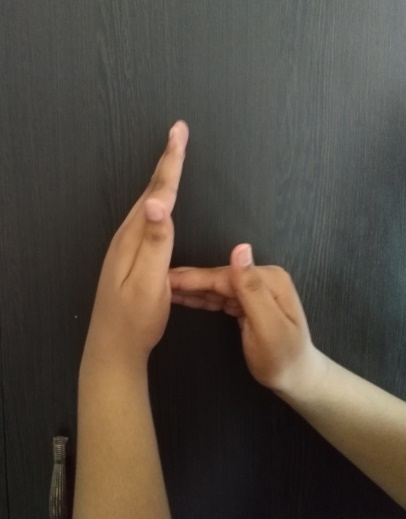ga: (89, 118, 317, 394)
